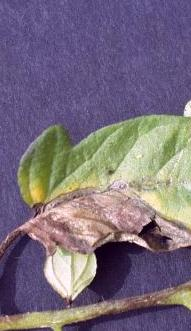Tomato leaf late blight: (7, 115, 191, 273)
